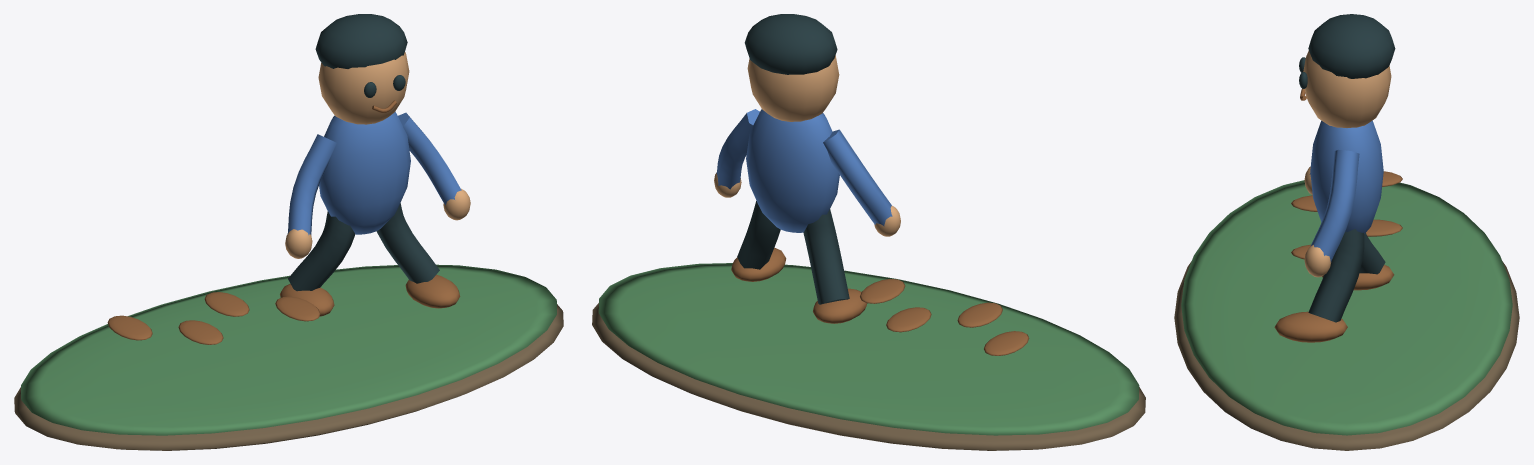
Rendered from scattered-steps.glb.
The picture shows the model from 3 angles, left to right: view 1: azimuth 30°, elevation 25°; view 2: azimuth 150°, elevation 25°; view 3: azimuth 270°, elevation 25°; orthographic projection. The views are drawn at different scales.
Parts seen in each view (by area): view 1: scattered-steps_surface_01, scattered-steps_surface_05, scattered-steps_surface_00, scattered-steps_surface_04, scattered-steps_surface_02, scattered-steps_surface_03; view 2: scattered-steps_surface_01, scattered-steps_surface_05, scattered-steps_surface_00, scattered-steps_surface_04, scattered-steps_surface_02, scattered-steps_surface_03; view 3: scattered-steps_surface_01, scattered-steps_surface_04, scattered-steps_surface_05, scattered-steps_surface_00, scattered-steps_surface_03, scattered-steps_surface_02.
Boxes of the visible parts, bbox=[...] form: scattered-steps_surface_01: bbox=[21, 264, 556, 435]; scattered-steps_surface_05: bbox=[287, 111, 461, 235]; scattered-steps_surface_00: bbox=[14, 304, 563, 450]; scattered-steps_surface_04: bbox=[288, 14, 439, 291]; scattered-steps_surface_02: bbox=[107, 100, 460, 344]; scattered-steps_surface_03: bbox=[285, 52, 470, 258]; scattered-steps_surface_01: bbox=[598, 263, 1139, 435]; scattered-steps_surface_05: bbox=[716, 109, 892, 232]; scattered-steps_surface_00: bbox=[592, 303, 1145, 450]; scattered-steps_surface_04: bbox=[737, 14, 849, 304]; scattered-steps_surface_02: bbox=[731, 247, 1029, 355]; scattered-steps_surface_03: bbox=[714, 55, 900, 236]; scattered-steps_surface_01: bbox=[1181, 180, 1512, 435]; scattered-steps_surface_04: bbox=[1299, 14, 1395, 322]; scattered-steps_surface_05: bbox=[1309, 120, 1383, 262]; scattered-steps_surface_00: bbox=[1174, 261, 1519, 450]; scattered-steps_surface_03: bbox=[1303, 50, 1391, 277]; scattered-steps_surface_02: bbox=[1274, 88, 1402, 342].
Size of the model in its own units: 4.56 by 2.81 by 2.5.
